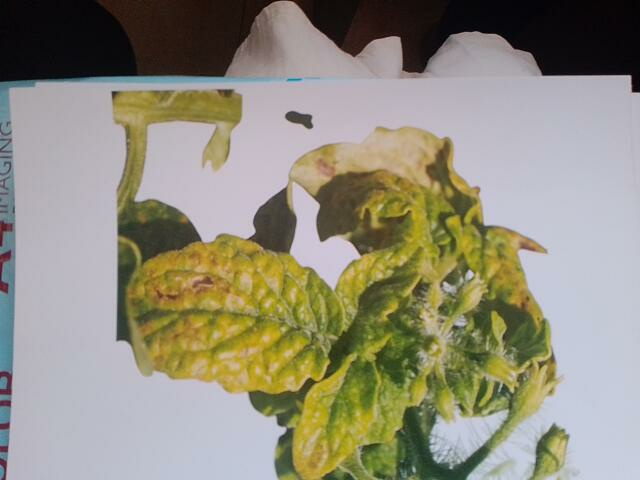Grape_Blight_Leaf: (238, 81, 559, 385)
